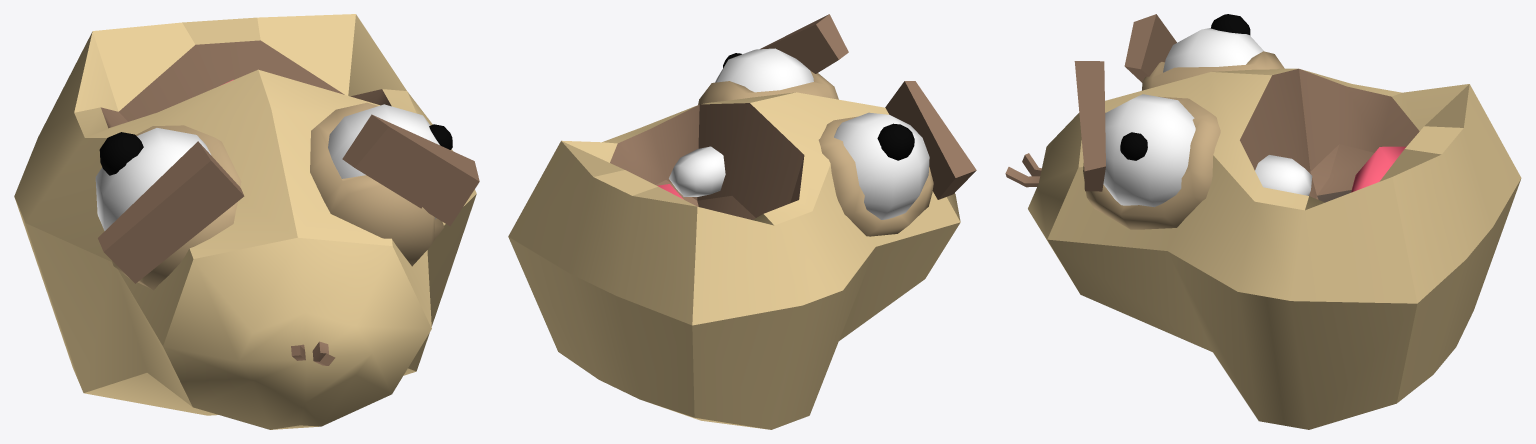
File: fafate2.fbx
3 renders of one model, left to right at view 1: azimuth 30°, elevation 25°; view 2: azimuth 150°, elevation 25°; view 3: azimuth 270°, elevation 25°, orthographic. The views are drawn at different scales.
Visible parts, largest first — view 1: Box001; view 2: Box001; view 3: Box001.
Boxes of the visible parts, <box> form: Box001: <box>14,14,479,429</box>; Box001: <box>508,14,976,429</box>; Box001: <box>1005,14,1521,429</box>.
Bounding box in the file's own units: 86.08 × 70.91 × 102.
